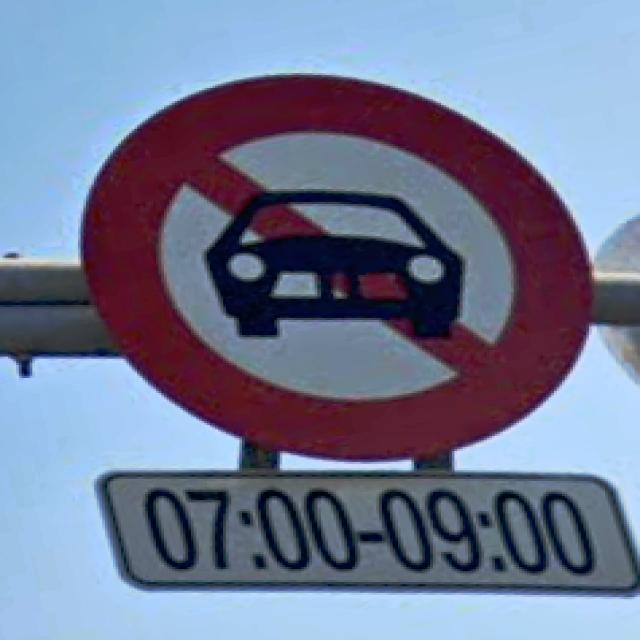nocar: (78, 75, 597, 466)
